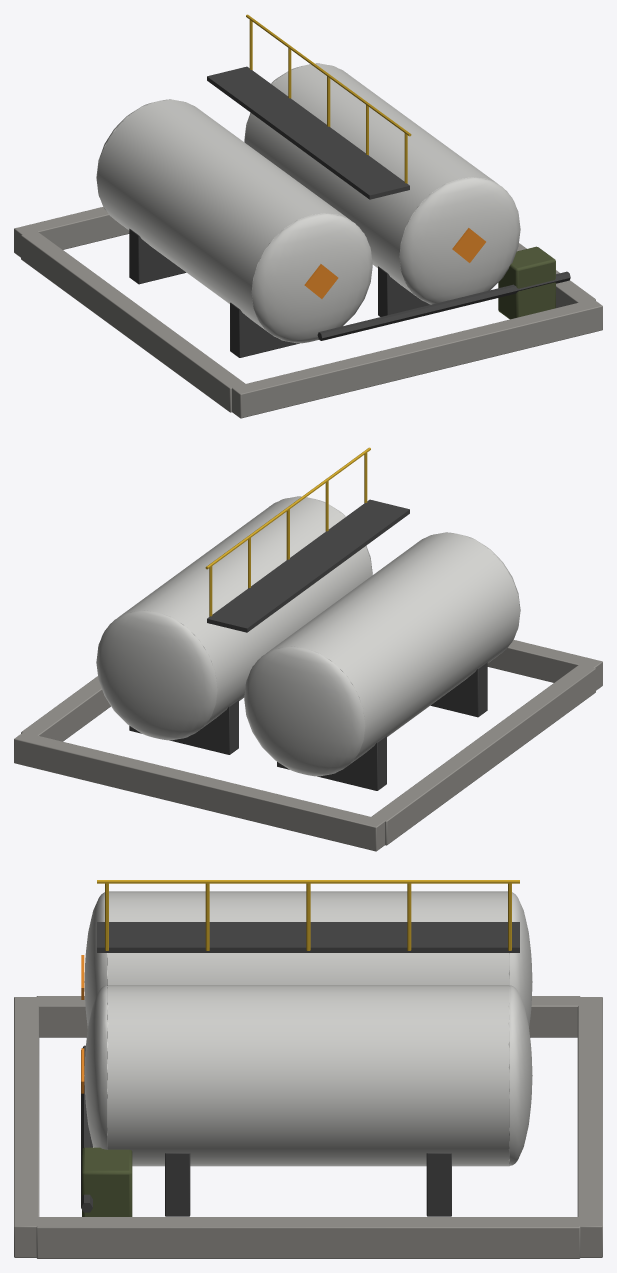
File: Base_FuelTanks.fbx
The picture shows the model from 3 angles, top to bottom: view 1: azimuth 30°, elevation 25°; view 2: azimuth 150°, elevation 25°; view 3: azimuth 270°, elevation 25°; orthographic projection. The views are drawn at different scales.
Visible parts, largest first — view 1: Base_FuelTanks_Mesh; view 2: Base_FuelTanks_Mesh; view 3: Base_FuelTanks_Mesh.
Part boxes in pixels (box(x1,y1,x2,y2)): Base_FuelTanks_Mesh: box(14, 14, 602, 418); Base_FuelTanks_Mesh: box(14, 447, 602, 851); Base_FuelTanks_Mesh: box(14, 880, 602, 1258).
Size of the model in its own units: 5.45 by 3.03 by 5.85.
